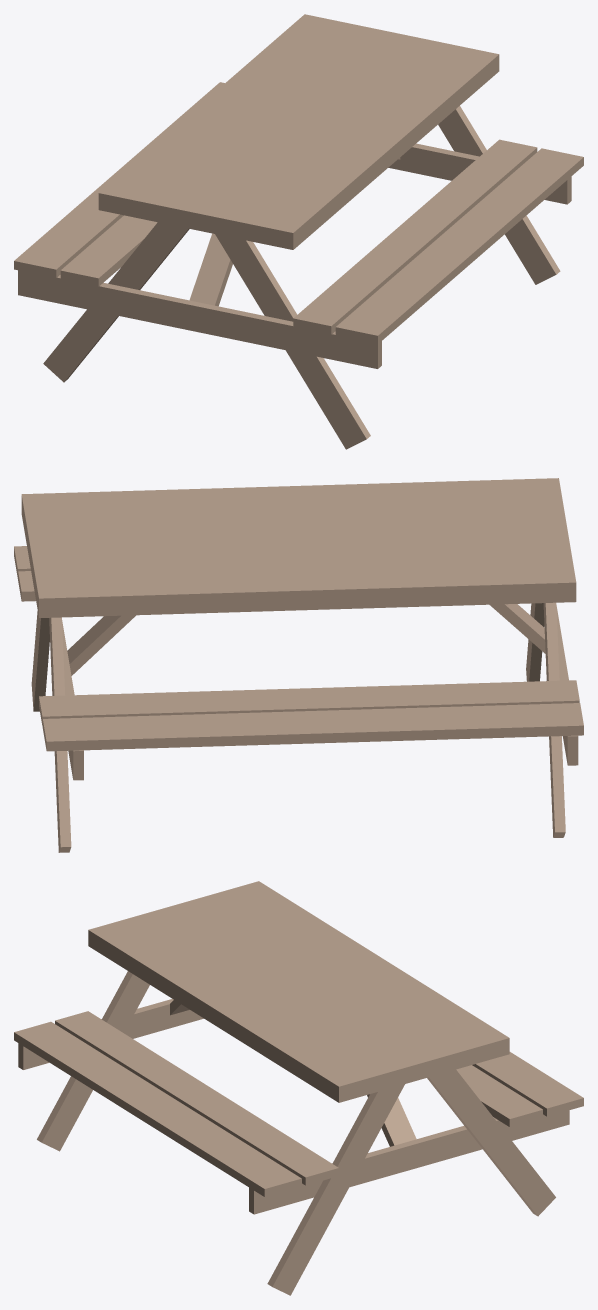
File: wood_bench_24089.glb
3 views of the same model, one above another, from view 1: azimuth 30°, elevation 25°; view 2: azimuth 150°, elevation 25°; view 3: azimuth 270°, elevation 25° (orthographic). The views are drawn at different scales.
Visible parts, largest first — view 1: part_24096, part_24091, part_24102, part_24092, part_24101, part_24100, part_24097, part_24095, part_24107, part_24108, part_24094; view 2: part_24096, part_24097, part_24095, part_24106, part_24100, part_24093, part_24107, part_24094, part_24102, part_24108, part_24101; view 3: part_24096, part_24091, part_24092, part_24107, part_24108, part_24106, part_24101, part_24097, part_24095, part_24102, part_24093.
Boxes of the visible parts, x1=… form: part_24096: x1=98, y1=14, x2=499, y2=249; part_24091: x1=335, y1=148, x2=583, y2=344; part_24102: x1=18, y1=270, x2=381, y2=368; part_24092: x1=293, y1=139, x2=537, y2=334; part_24101: x1=215, y1=234, x2=370, y2=449; part_24100: x1=43, y1=222, x2=189, y2=382; part_24097: x1=14, y1=82, x2=224, y2=277; part_24095: x1=60, y1=215, x2=157, y2=286; part_24107: x1=438, y1=106, x2=560, y2=284; part_24108: x1=388, y1=143, x2=571, y2=204; part_24094: x1=189, y1=233, x2=232, y2=306; part_24096: x1=21, y1=478, x2=576, y2=617; part_24097: x1=42, y1=703, x2=583, y2=751; part_24095: x1=39, y1=680, x2=579, y2=725; part_24106: x1=49, y1=617, x2=71, y2=852; part_24100: x1=543, y1=602, x2=565, y2=837; part_24093: x1=67, y1=615, x2=135, y2=675; part_24107: x1=31, y1=611, x2=49, y2=711; part_24094: x1=489, y1=604, x2=545, y2=653; part_24102: x1=544, y1=607, x2=578, y2=765; part_24108: x1=62, y1=620, x2=83, y2=780; part_24101: x1=526, y1=603, x2=544, y2=681; part_24096: x1=88, y1=881, x2=509, y2=1102; part_24091: x1=14, y1=1021, x2=301, y2=1196; part_24092: x1=55, y1=1011, x2=338, y2=1185; part_24107: x1=267, y1=1084, x2=404, y2=1295; part_24108: x1=249, y1=1110, x2=569, y2=1214; part_24106: x1=427, y1=1069, x2=555, y2=1216; part_24101: x1=37, y1=971, x2=149, y2=1151; part_24097: x1=472, y1=1052, x2=583, y2=1116; part_24095: x1=456, y1=1065, x2=542, y2=1126; part_24102: x1=18, y1=999, x2=203, y2=1069; part_24093: x1=367, y1=1094, x2=416, y2=1146.
Bounding box in the file's own units: 13.1 × 4.98 × 12.72.
